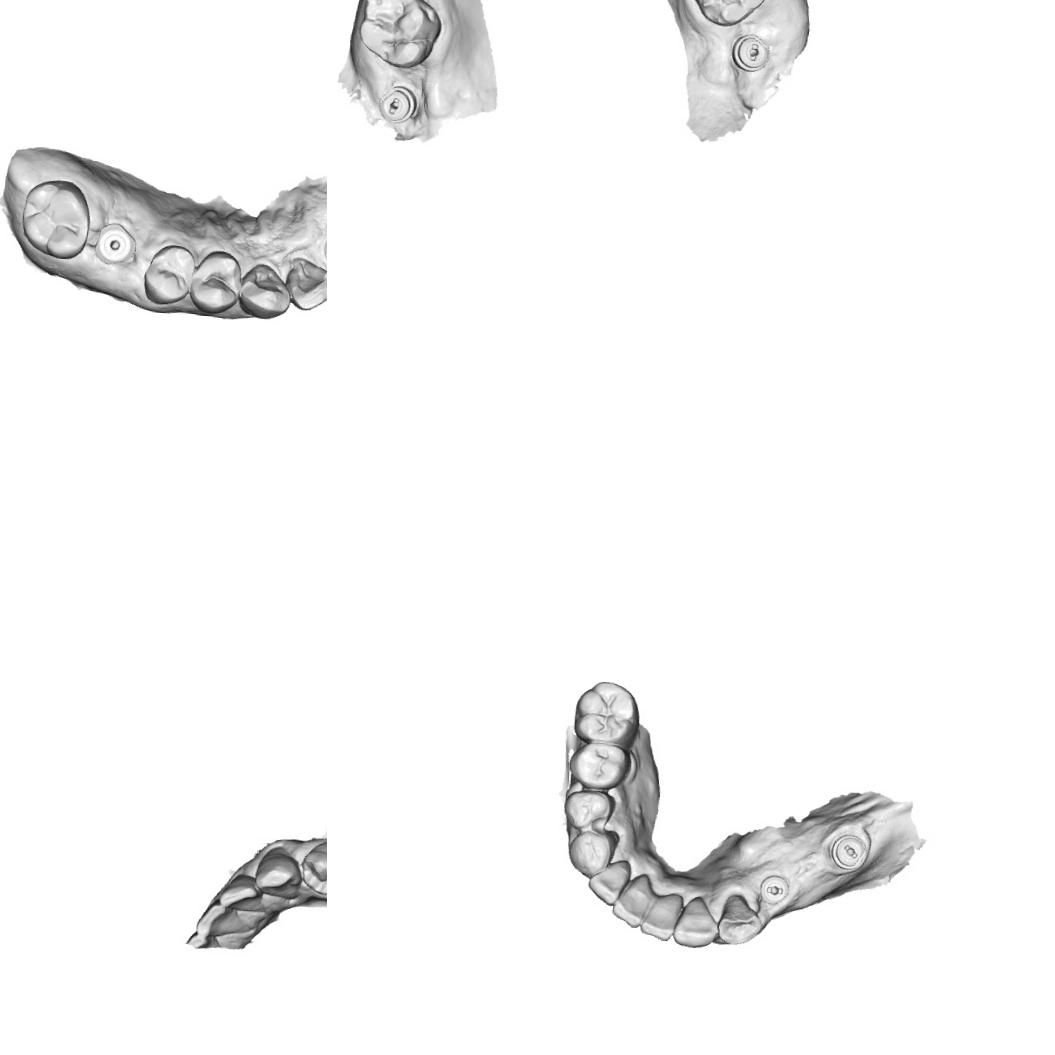canine: (236, 262, 290, 321), (252, 844, 303, 900), (566, 826, 619, 879), (716, 893, 764, 947)
implant: (94, 223, 134, 265)
implant_minus: (725, 31, 772, 77), (374, 81, 420, 128), (828, 832, 868, 871), (757, 872, 790, 906)
incisor: (671, 893, 720, 949), (610, 870, 655, 929), (193, 900, 254, 943), (282, 255, 327, 313), (638, 890, 684, 942), (586, 856, 632, 906), (218, 870, 264, 912)
molar: (15, 176, 94, 261), (353, 0, 446, 70), (572, 678, 642, 748), (683, 0, 775, 30)
premolar: (138, 241, 196, 310), (189, 247, 243, 316), (566, 738, 632, 790), (562, 787, 616, 831), (298, 837, 327, 897)
